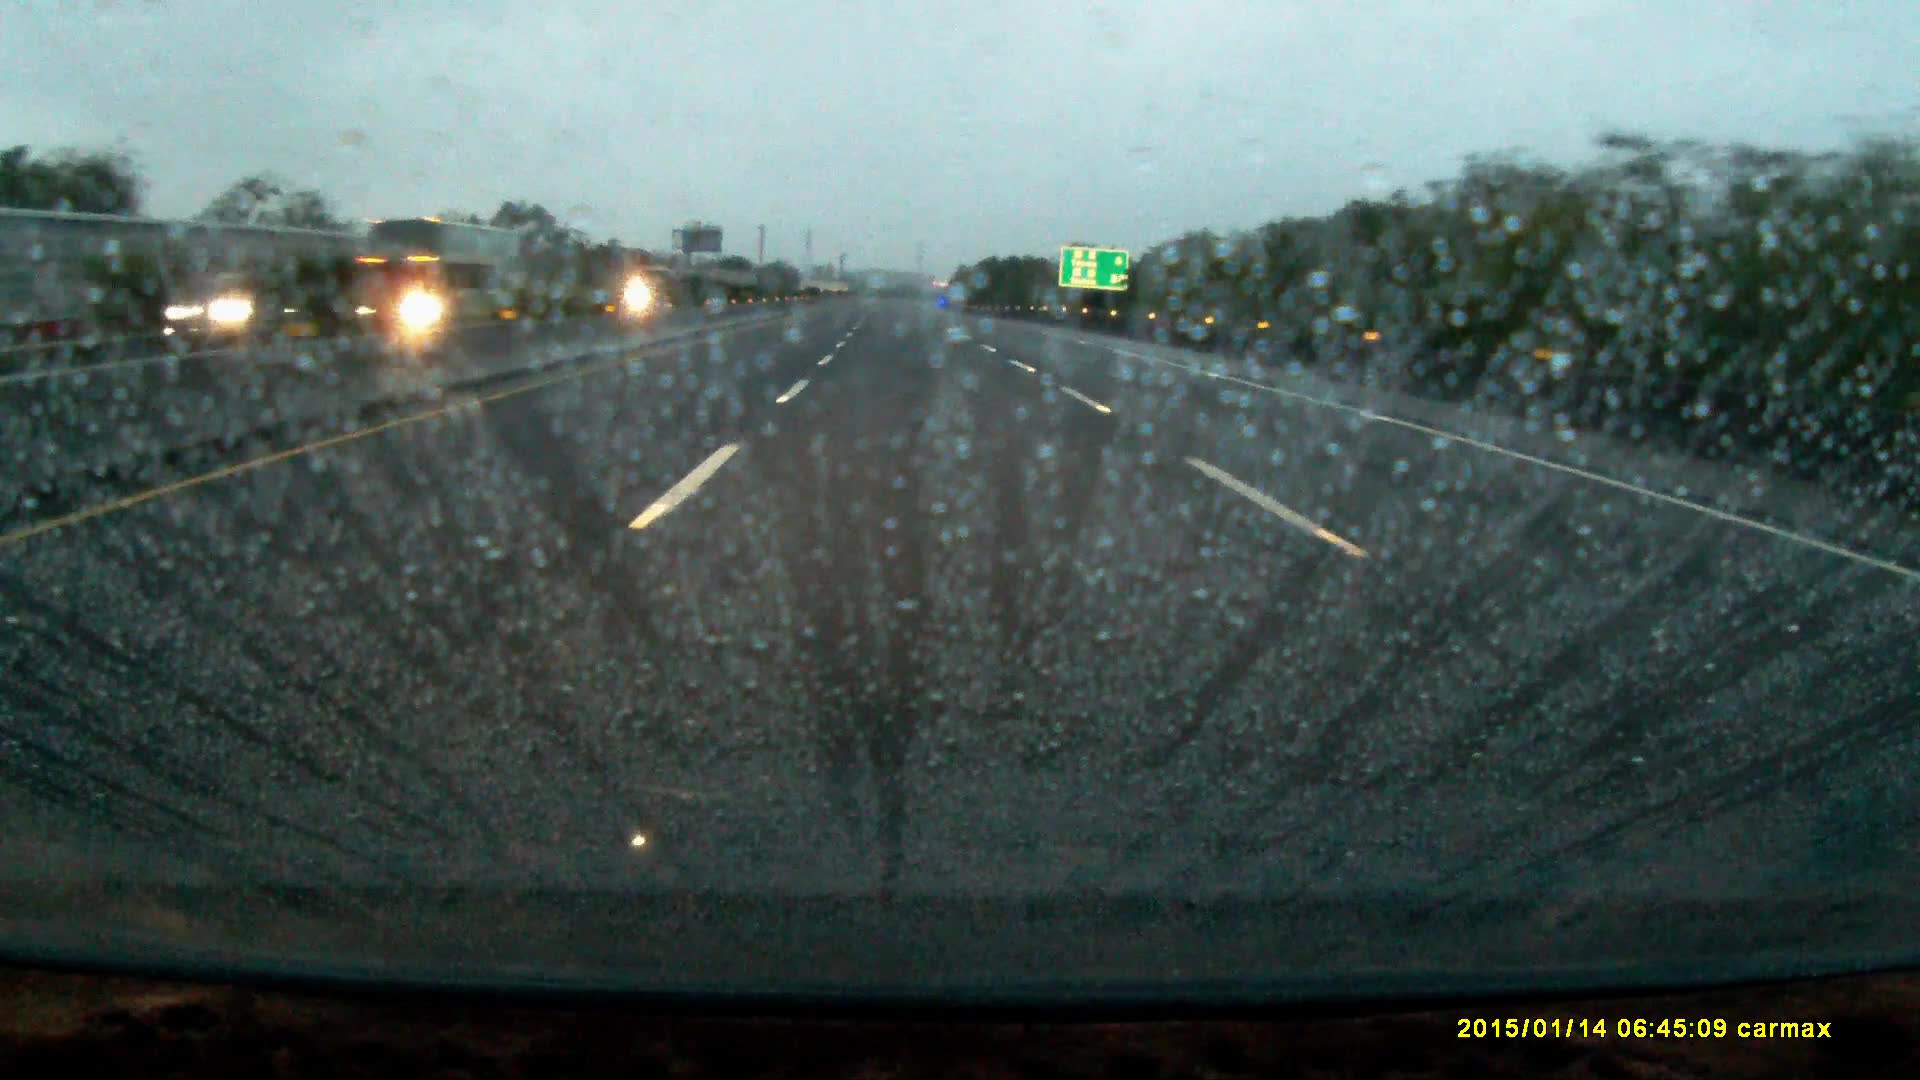vehicle: (348, 218, 521, 326), (171, 276, 301, 345), (636, 269, 688, 306)
